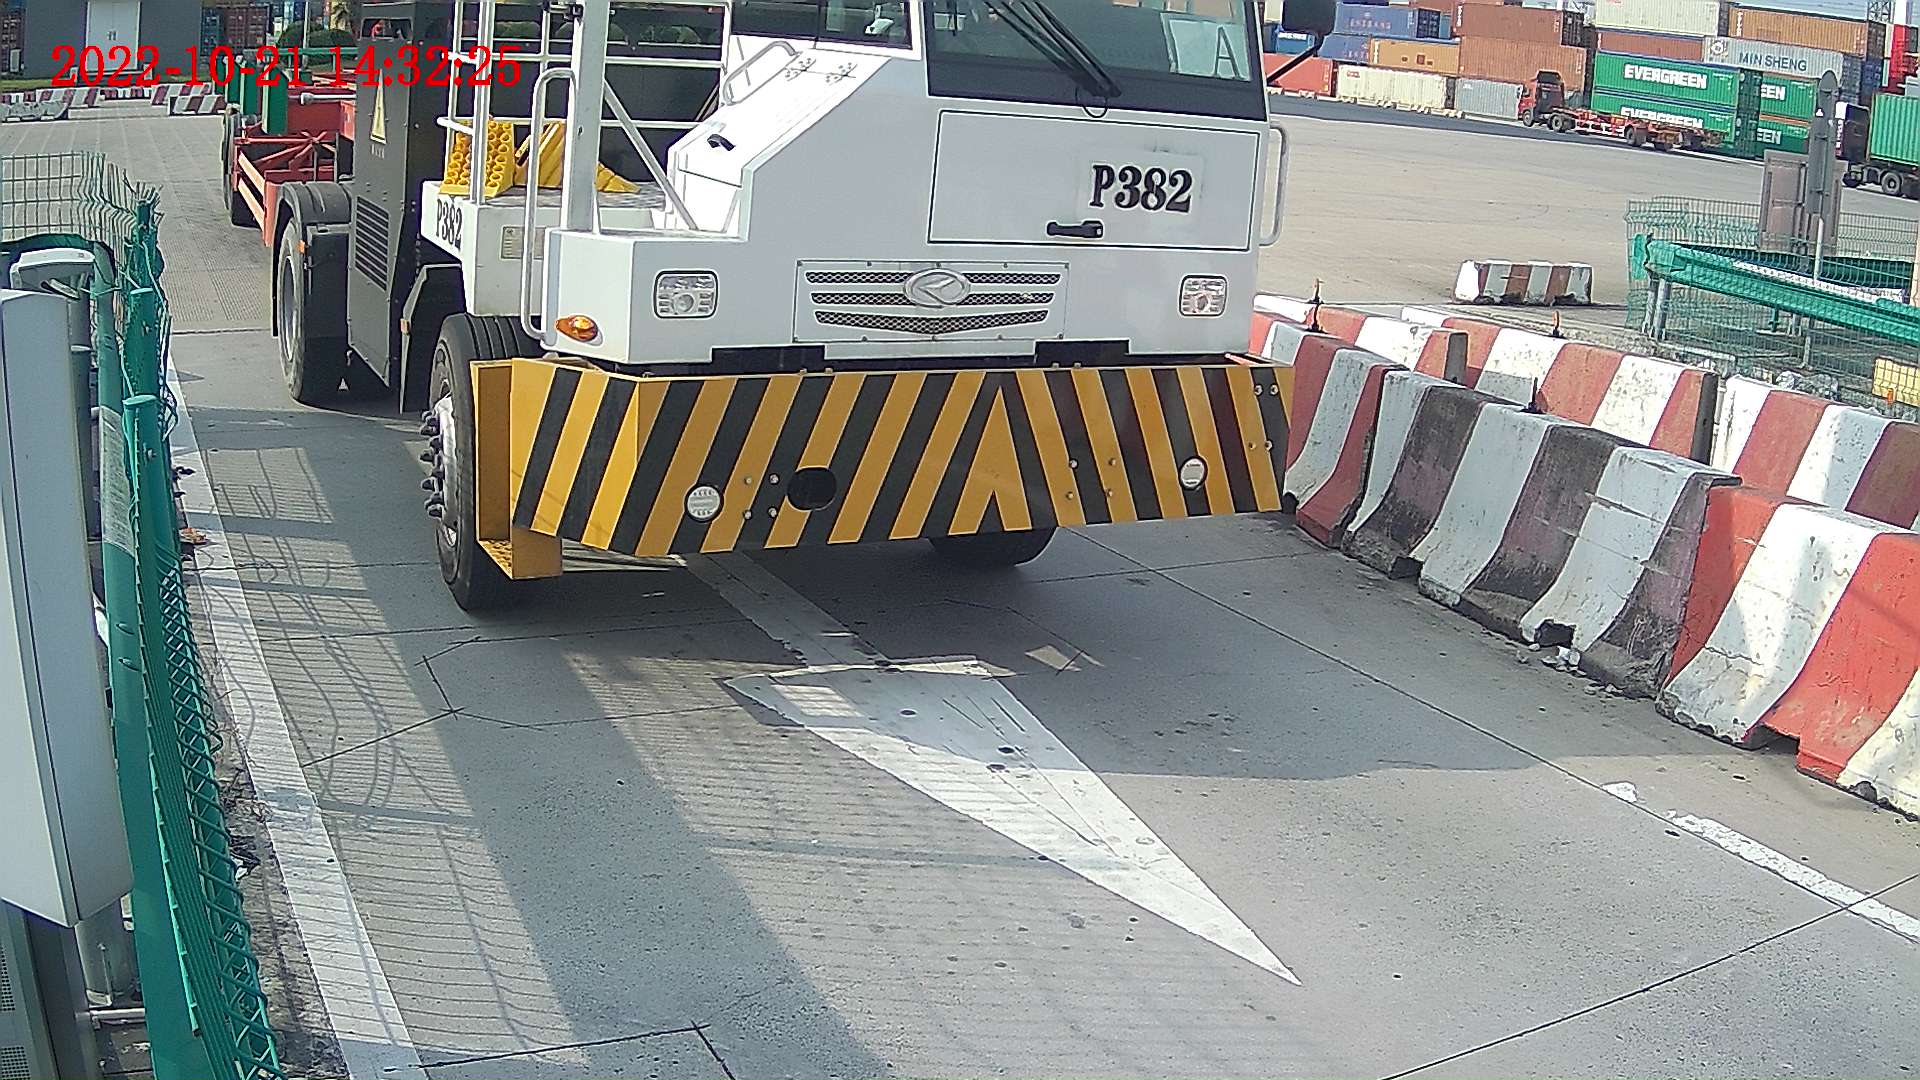head: (395, 1, 1291, 609)
